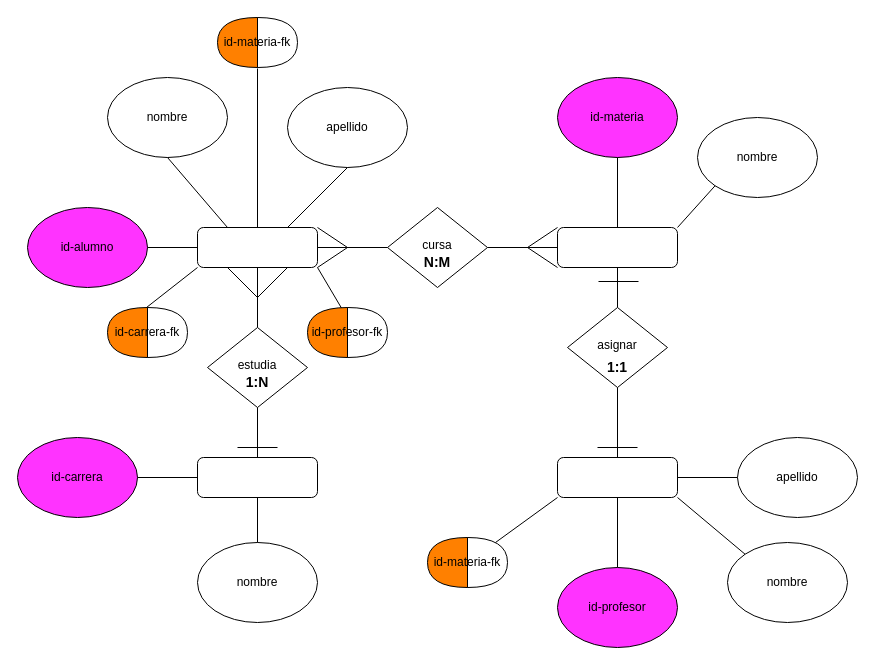
This 875x665 diagram has some shape labels left out. Here are the shapes that lost their labels. From the top down, the centre of each, then its label:
At point (257, 247): "alumno".
At point (617, 247): "materia".
At point (257, 477): "carrera".
At point (617, 477): "profesores".
